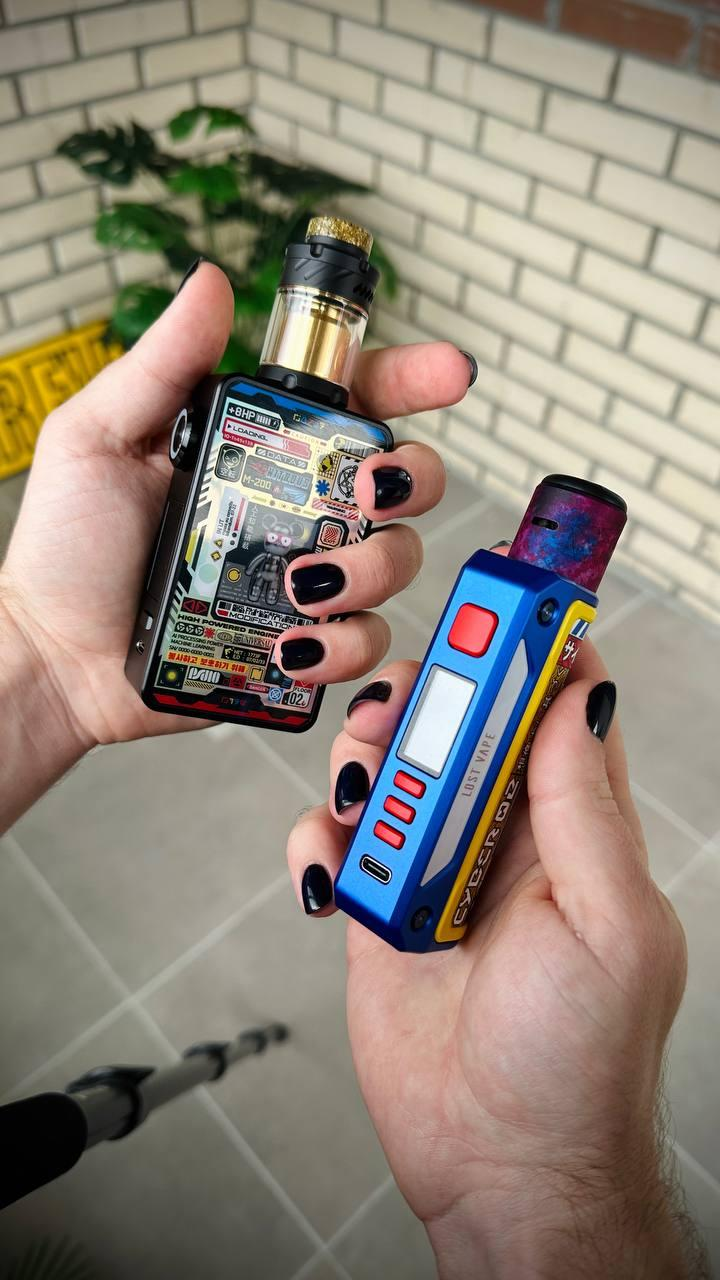Vape: (334, 476, 626, 953), (125, 216, 393, 732)
